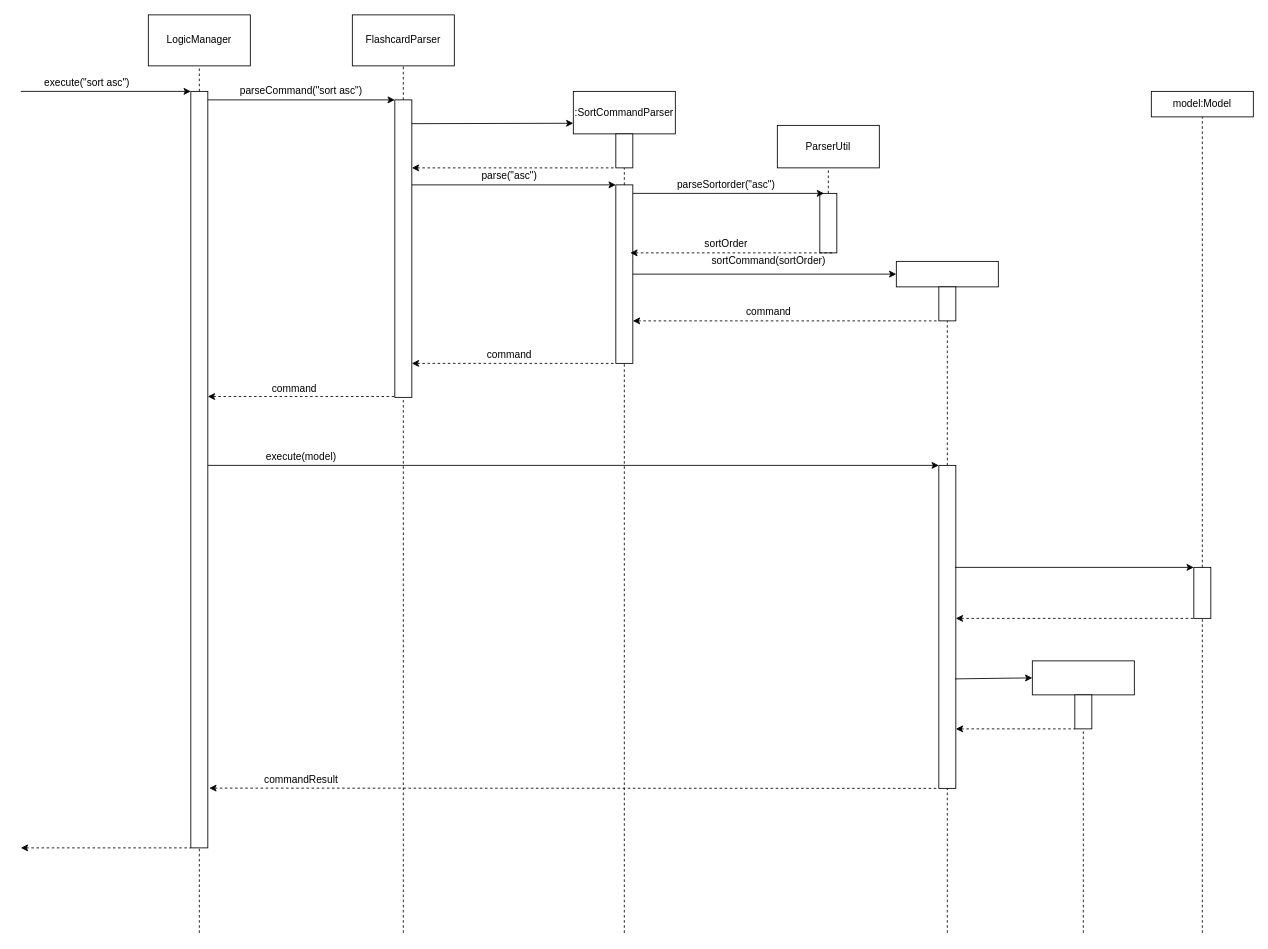
Some shapes in this 1268 by 949 pixel diagram are drawn without their labels. Each missing label, with the centre of its shape:
:CommandResult: the point at 1082,677
:SortCommand: the point at 946,274
